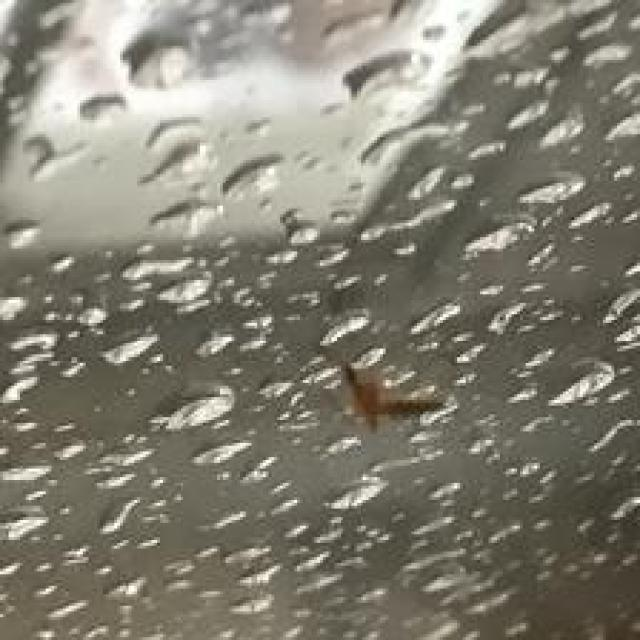Culex: (340, 361, 446, 433)
